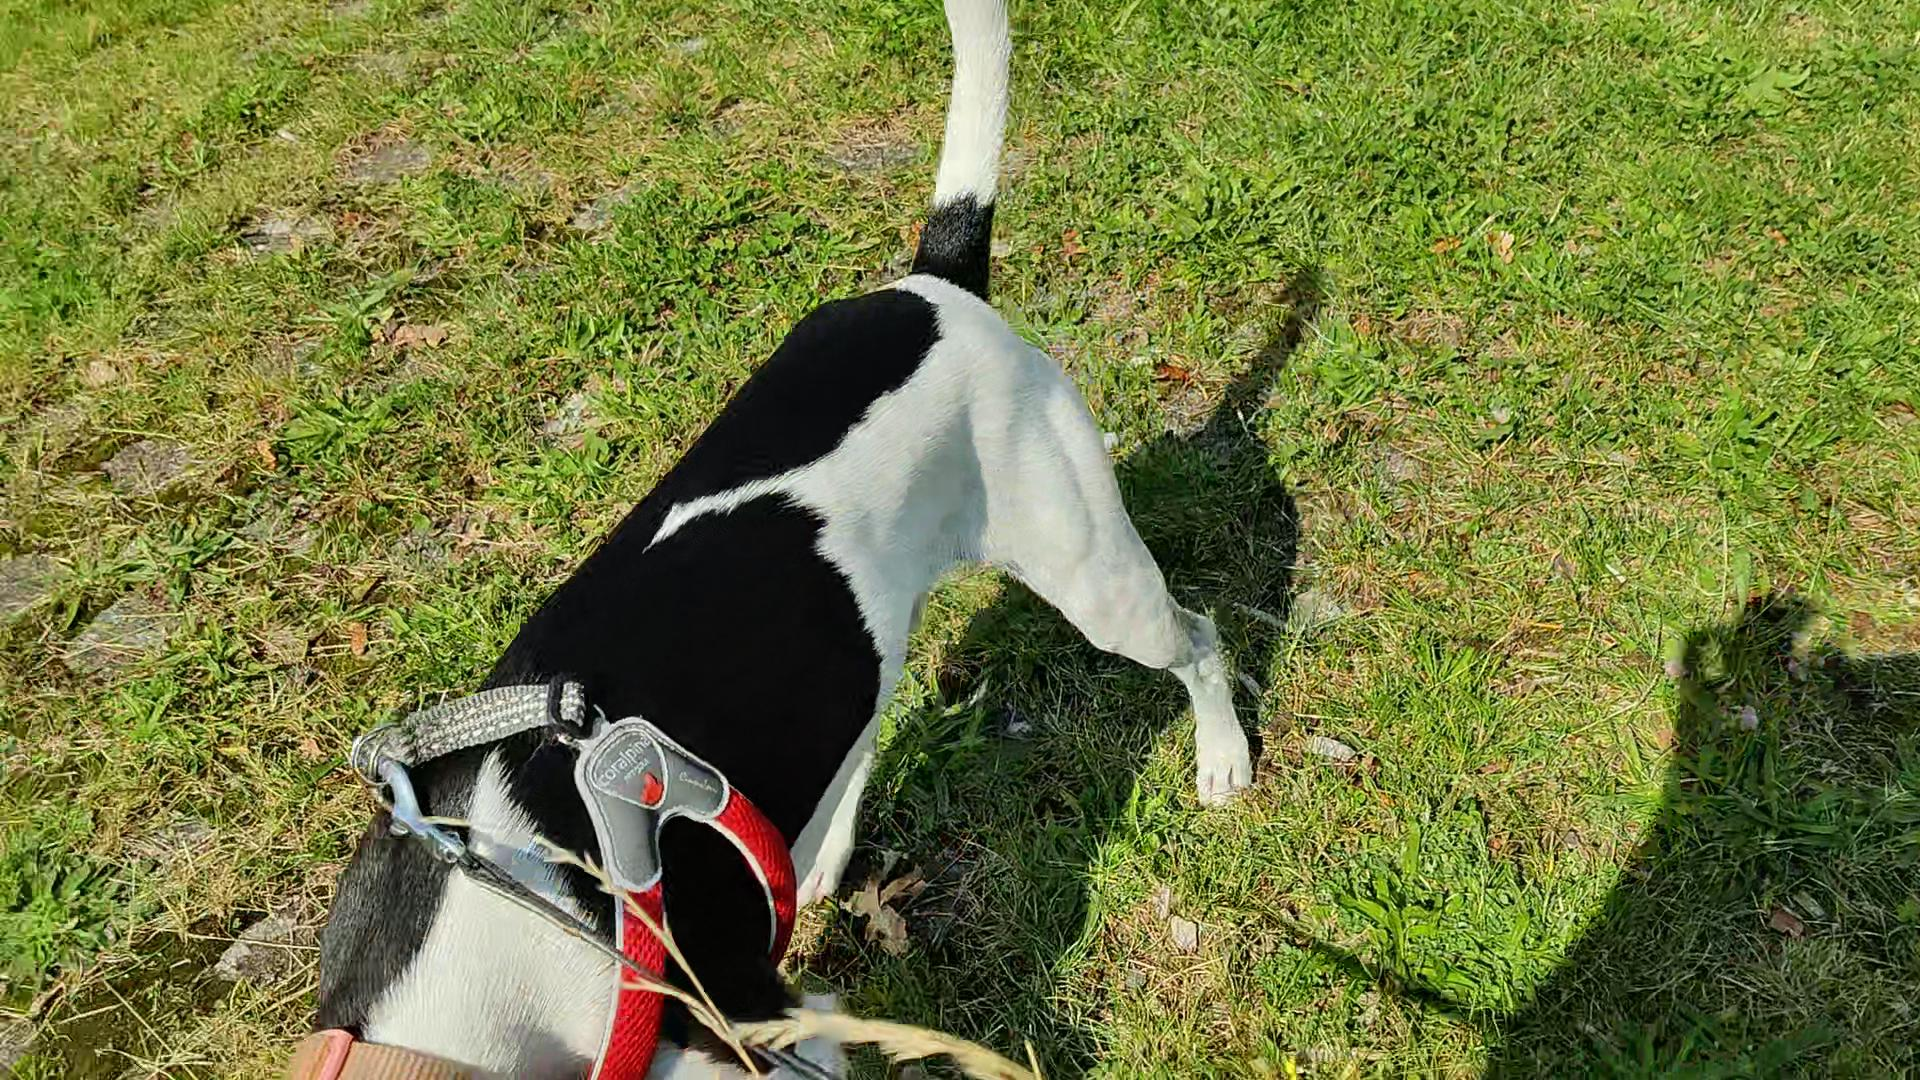Dog: (277, 0, 1269, 1079)
